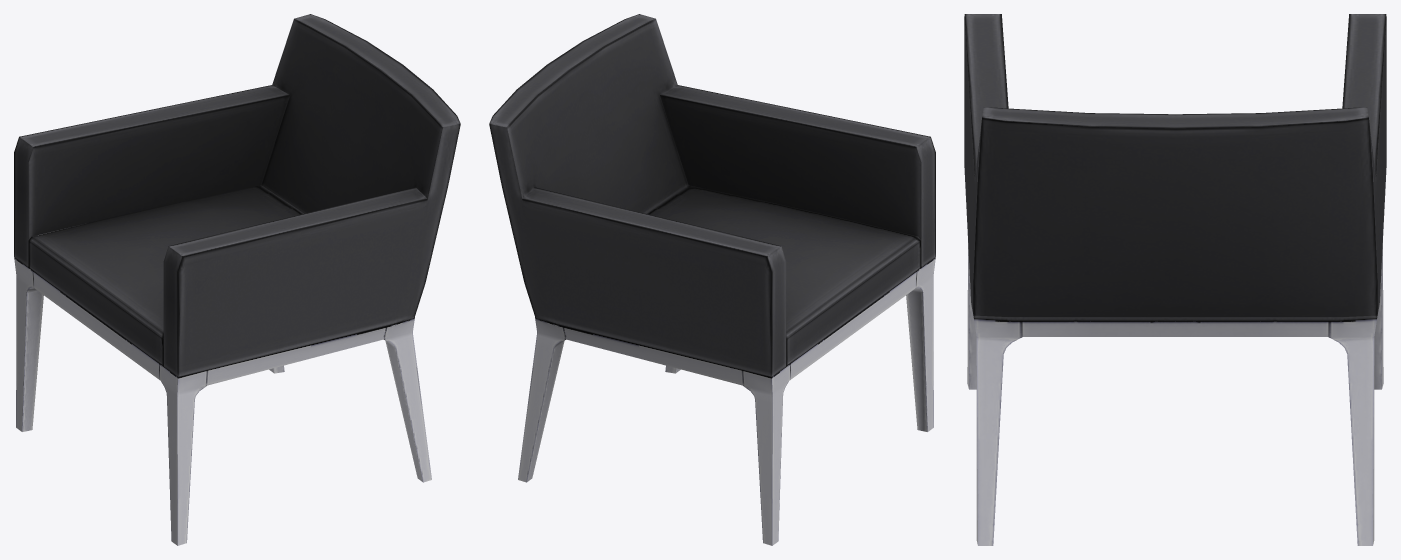
File: Chair07.FBX
3 renders of one model, left to right at view 1: azimuth 30°, elevation 25°; view 2: azimuth 150°, elevation 25°; view 3: azimuth 270°, elevation 25°, orthographic. The views are drawn at different scales.
Visible parts, largest first — view 1: Chair07; view 2: Chair07; view 3: Chair07.
Part boxes in pixels (<box>): Chair07: <box>14,14,460,545</box>; Chair07: <box>489,14,935,545</box>; Chair07: <box>964,14,1386,545</box>.
Size of the model in its own units: 67.93 by 62.55 by 73.09.
1 material, 1 textured.
